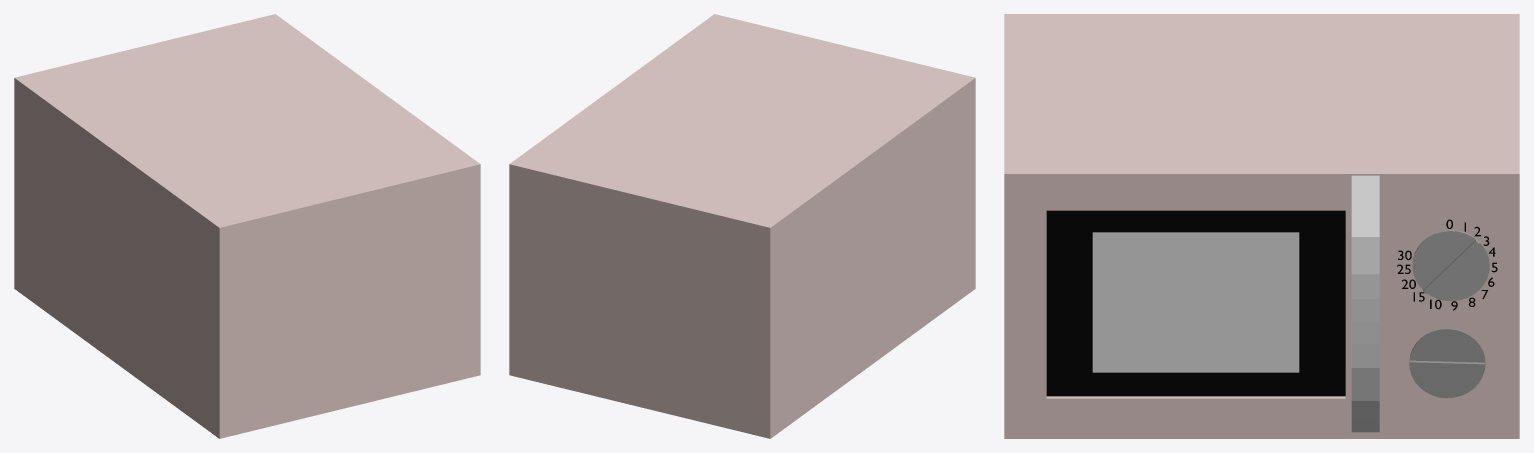
The model's file is micro_onde.fbx.
The picture shows the model from 3 angles, left to right: view 1: azimuth 30°, elevation 25°; view 2: azimuth 150°, elevation 25°; view 3: azimuth 270°, elevation 25°; orthographic projection. The views are drawn at different scales.
Visible parts, largest first — view 1: Cube; view 2: Cube; view 3: Cube, vitre transparant, vitre noir, poignée, bouton, bouton.001.
Boxes of the visible parts, x1=… form: Cube: x1=14, y1=14, x2=480, y2=438; Cube: x1=509, y1=14, x2=975, y2=438; Cube: x1=1004, y1=14, x2=1519, y2=438; vitre transparant: x1=1092, y1=232, x2=1299, y2=372; vitre noir: x1=1046, y1=210, x2=1345, y2=396; poignée: x1=1351, y1=175, x2=1379, y2=432; bouton: x1=1412, y1=230, x2=1489, y2=300; bouton.001: x1=1409, y1=328, x2=1485, y2=398.
Bounding box in the file's own units: 160 × 113 × 200.
